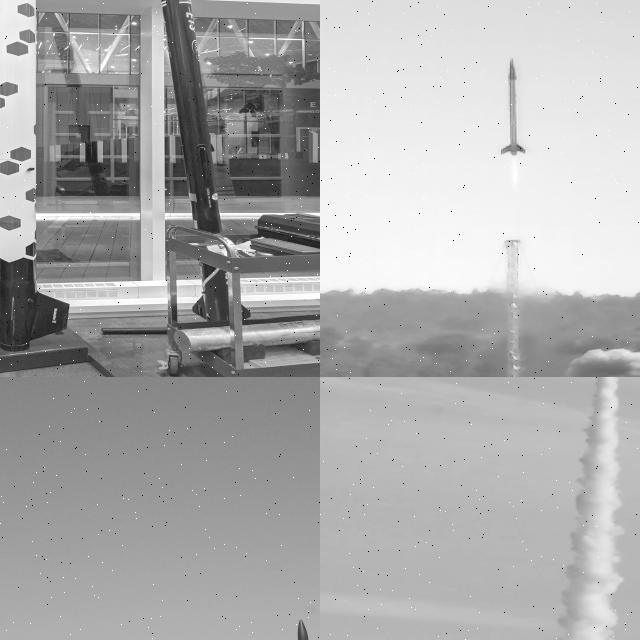Rocket: (161, 0, 251, 322), (499, 58, 526, 156)
